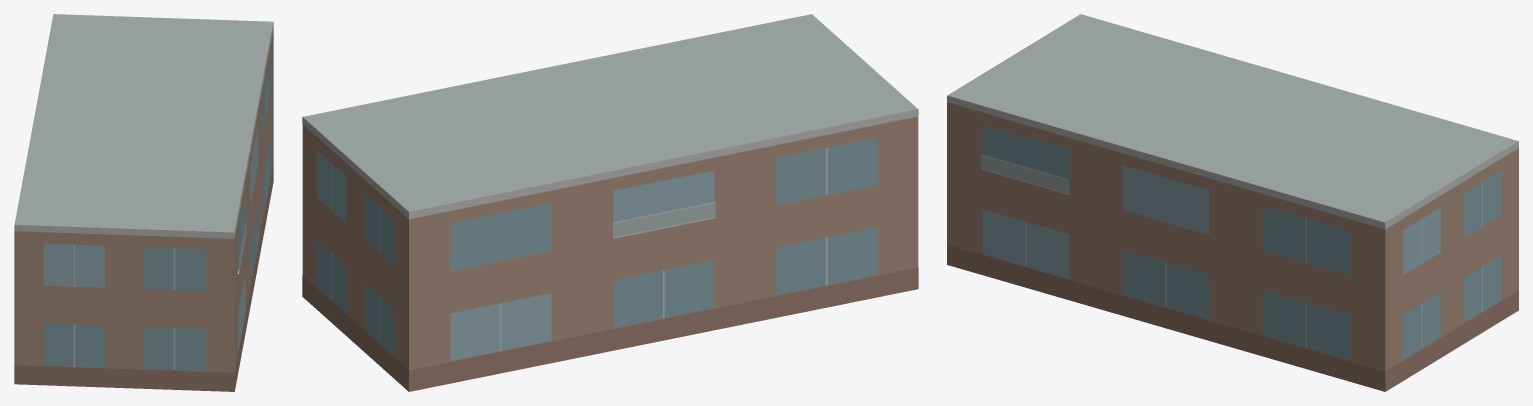
The model's file is survey-upis-32704774.glb.
3 views of the same model, side by side, from view 1: azimuth 30°, elevation 25°; view 2: azimuth 150°, elevation 25°; view 3: azimuth 270°, elevation 25° (orthographic). The views are drawn at different scales.
Visible parts, largest first — view 1: survey-upis-32704774.tmp; view 2: survey-upis-32704774.tmp; view 3: survey-upis-32704774.tmp.
Part boxes in pixels (x1,y1,x2,y2): survey-upis-32704774.tmp: (14, 14, 273, 391); survey-upis-32704774.tmp: (302, 14, 918, 391); survey-upis-32704774.tmp: (947, 14, 1518, 391).
Size of the model in its own units: 16.13 by 6.1 by 18.68.
